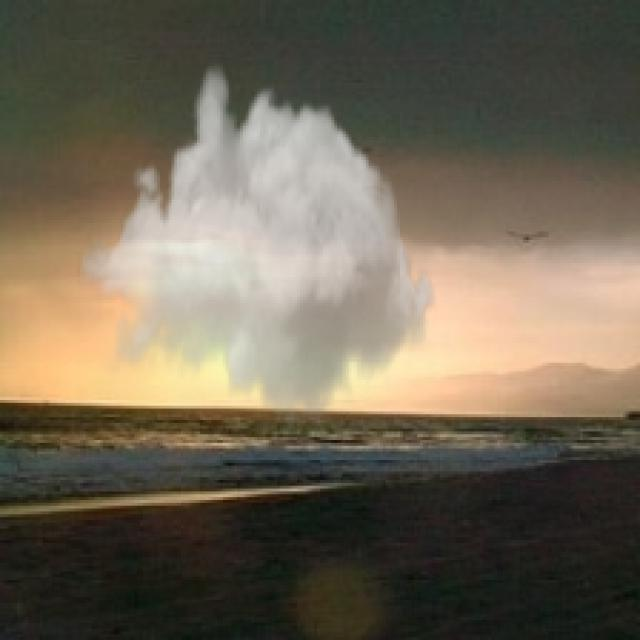Smoke: (77, 59, 437, 434)
